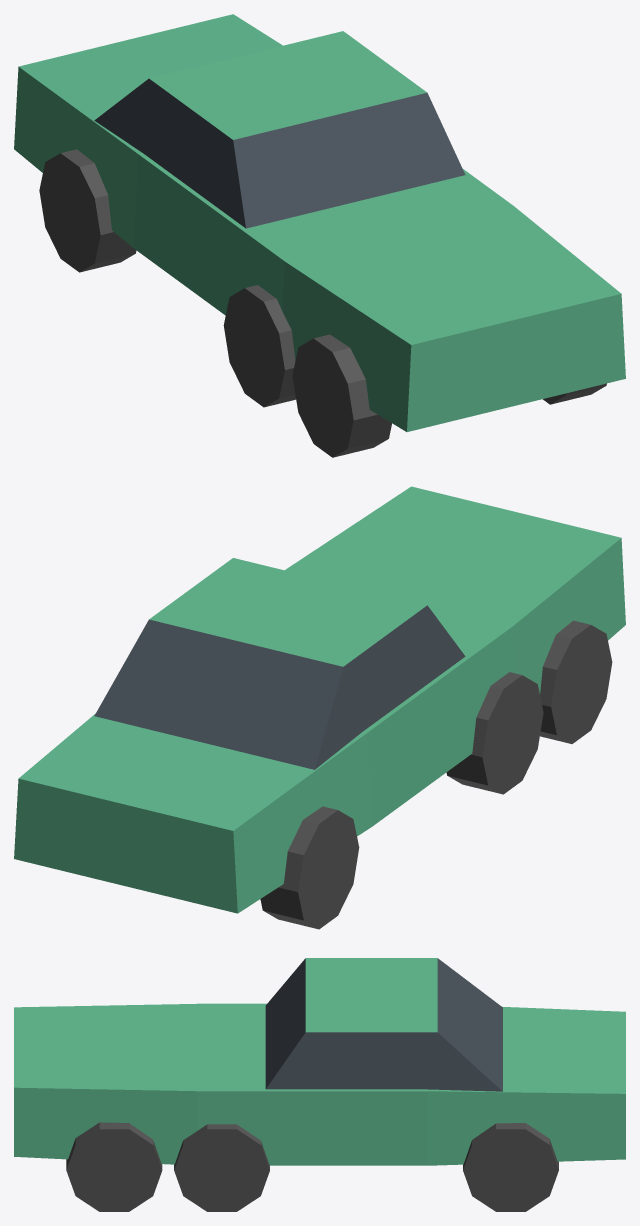
3 views of the same model, one above another, from view 1: azimuth 30°, elevation 25°; view 2: azimuth 150°, elevation 25°; view 3: azimuth 270°, elevation 25° (orthographic). The views are drawn at different scales.
Parts seen in each view (by area): view 1: velociraptor_body, velociraptor_Wheel_RL, velociraptor_Wheel_FL, velociraptor_Wheel_ML; view 2: velociraptor_body, velociraptor_Wheel_FL, velociraptor_Wheel_ML, velociraptor_Wheel_RL; view 3: velociraptor_body, velociraptor_Wheel_RR, velociraptor_Wheel_FR, velociraptor_Wheel_MR.
Boxes of the visible parts, x1=… form: velociraptor_body: x1=14, y1=14, x2=625, y2=431; velociraptor_Wheel_RL: x1=292, y1=334, x2=391, y2=457; velociraptor_Wheel_FL: x1=39, y1=149, x2=136, y2=272; velociraptor_Wheel_ML: x1=223, y1=285, x2=296, y2=407; velociraptor_body: x1=14, y1=486, x2=625, y2=913; velociraptor_Wheel_FL: x1=260, y1=806, x2=359, y2=929; velociraptor_Wheel_ML: x1=446, y1=672, x2=543, y2=794; velociraptor_Wheel_RL: x1=540, y1=620, x2=612, y2=743; velociraptor_body: x1=14, y1=958, x2=625, y2=1165; velociraptor_Wheel_RR: x1=66, y1=1122, x2=162, y2=1211; velociraptor_Wheel_FR: x1=463, y1=1123, x2=558, y2=1211; velociraptor_Wheel_MR: x1=174, y1=1124, x2=269, y2=1211.
Size of the model in its own units: 2.39 by 1.89 by 6.25.
